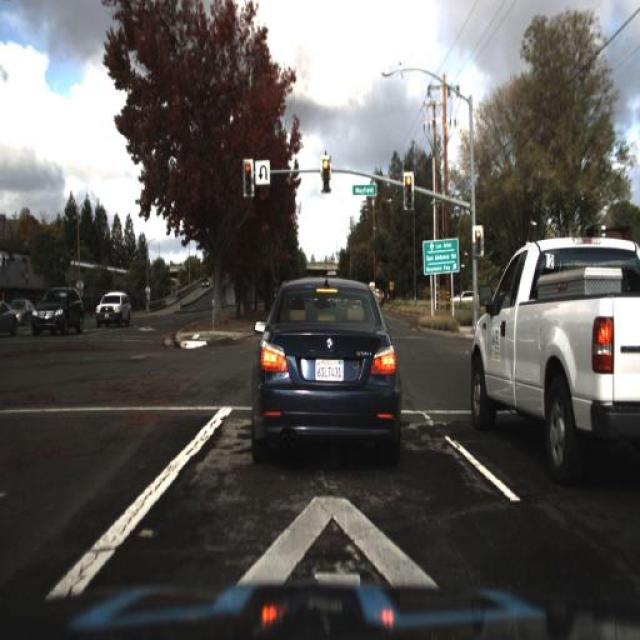car: (468, 232, 638, 483), (250, 272, 402, 467), (26, 285, 80, 335), (94, 289, 132, 326), (448, 286, 484, 310), (0, 298, 19, 338), (198, 274, 216, 290)
trafficLight-RedLeft: (398, 167, 416, 214), (470, 218, 486, 264), (319, 153, 333, 193), (472, 226, 482, 258)
trafficLight-Yellow: (240, 153, 256, 205), (242, 158, 253, 198)
